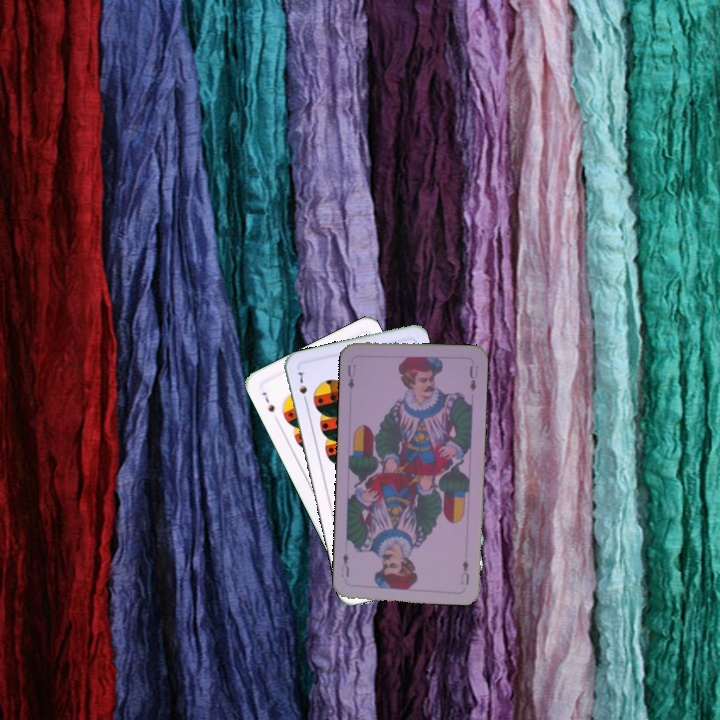EU: (456, 556, 472, 587), (344, 360, 358, 392)
S7: (294, 366, 310, 406), (258, 388, 277, 415)
